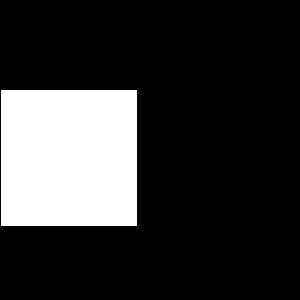circle: (1, 90, 137, 226)
triangle: (108, 143, 123, 158)
